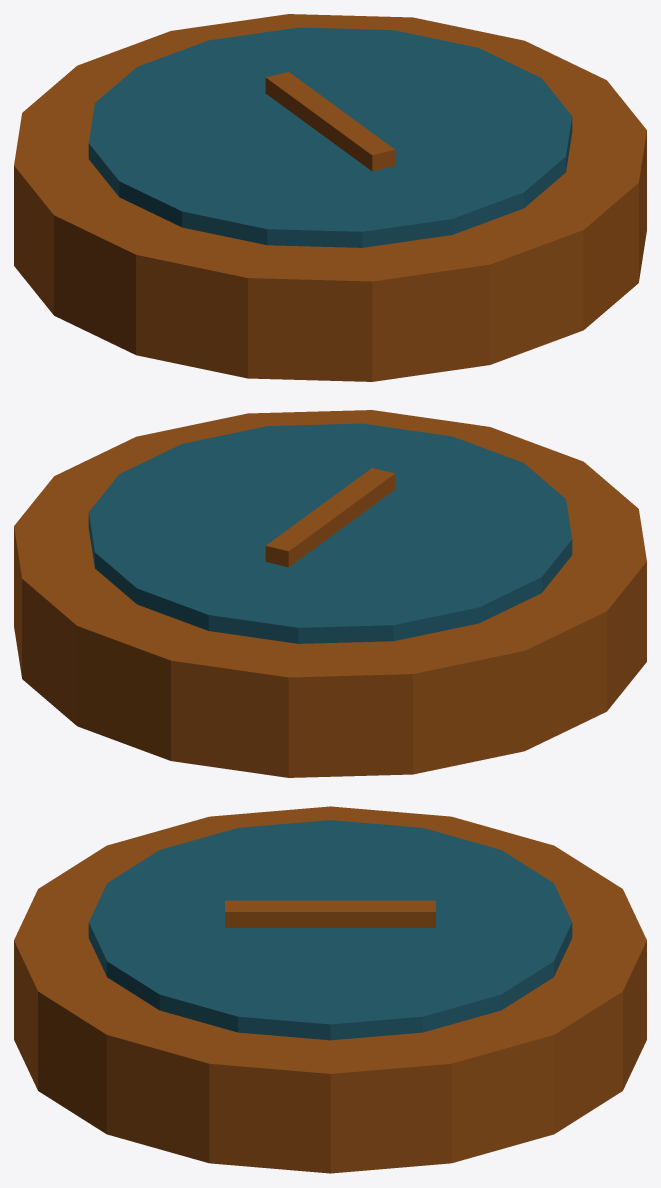
Rendered from compass.obj.
The picture shows the model from 3 angles, top to bottom: view 1: azimuth 30°, elevation 25°; view 2: azimuth 150°, elevation 25°; view 3: azimuth 270°, elevation 25°; orthographic projection.
Parts seen in each view (by area): view 1: brass, glass; view 2: brass, glass; view 3: brass, glass.
Boxes of the visible parts, <box> form: brass: <box>14,14,646,381</box>; glass: <box>88,27,572,247</box>; brass: <box>14,410,646,777</box>; glass: <box>88,423,572,643</box>; brass: <box>14,806,646,1173</box>; glass: <box>88,820,572,1040</box>.
Bounding box in the file's own units: 1.44 × 0.335 × 1.44.
